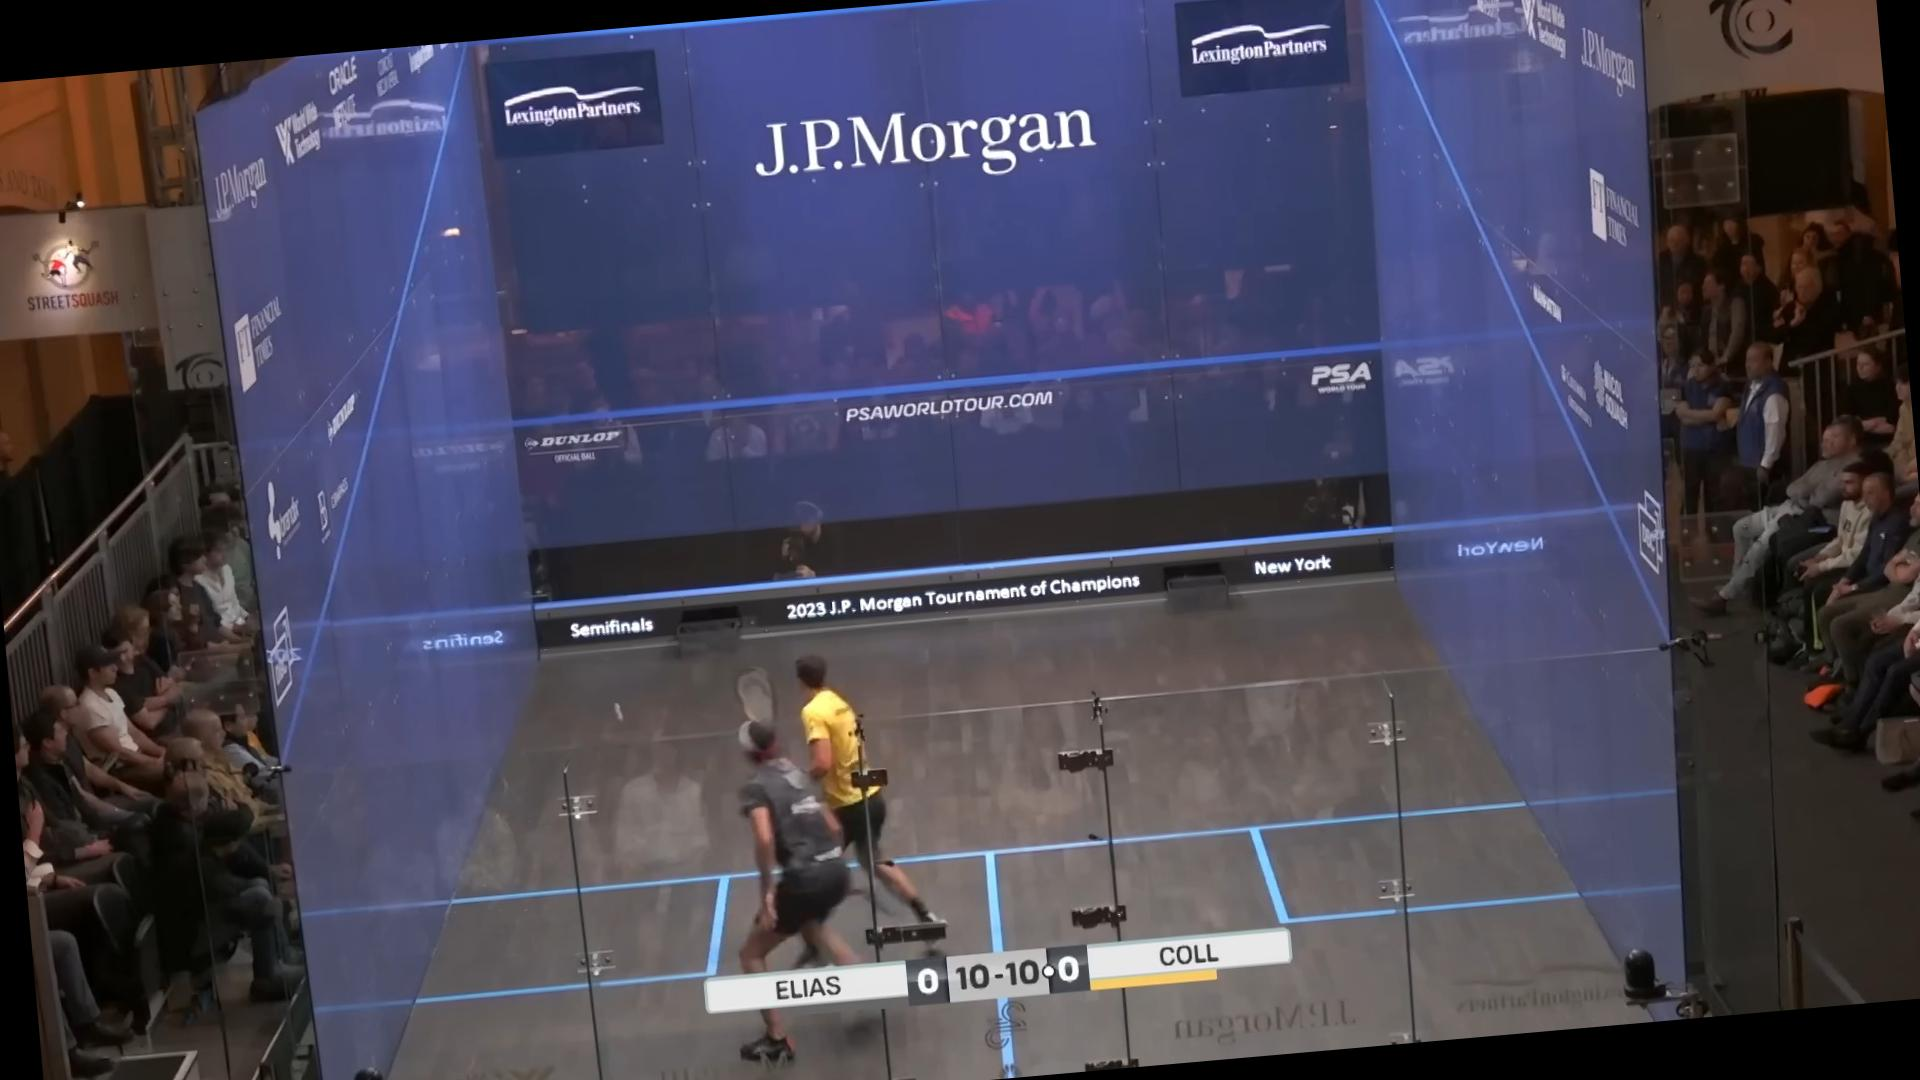Racket: (725, 654, 786, 724)
